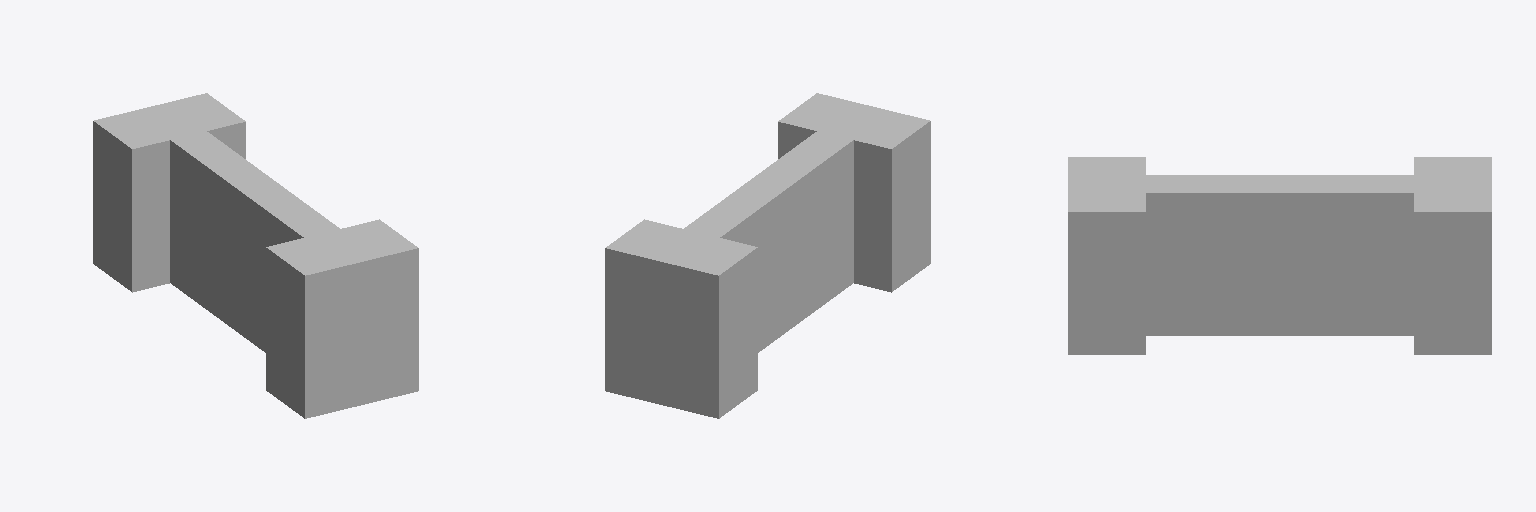
The model's file is building_3.obj.
3 views of the same model, side by side, from view 1: azimuth 30°, elevation 25°; view 2: azimuth 150°, elevation 25°; view 3: azimuth 270°, elevation 25° (orthographic).
Parts seen in each view (by area): view 1: 立方体; view 2: 立方体; view 3: 立方体.
Boxes of the visible parts, x1=… form: 立方体: x1=93, y1=93, x2=418, y2=418; 立方体: x1=605, y1=93, x2=930, y2=418; 立方体: x1=1068, y1=157, x2=1491, y2=354.
Size of the model in its own units: 12.34 by 14.86 by 39.85.